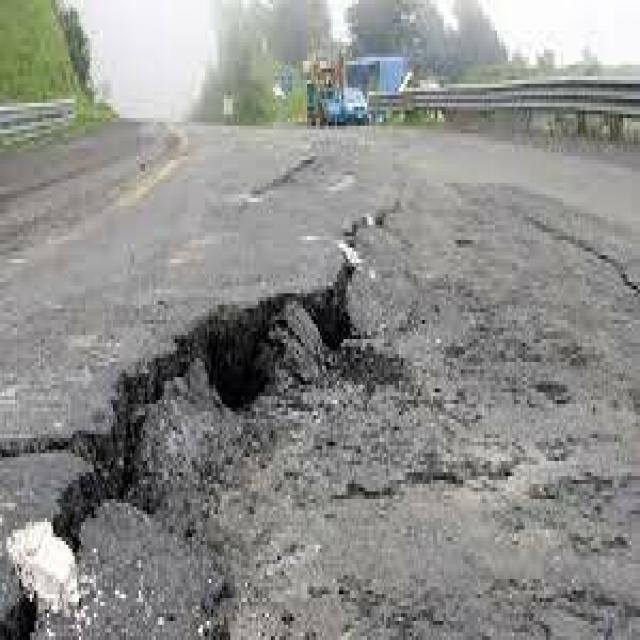Pothole: (49, 244, 454, 640)
